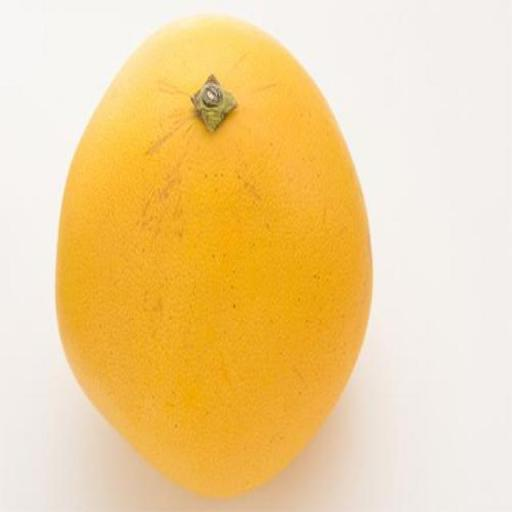fruit: (57, 16, 370, 495)
